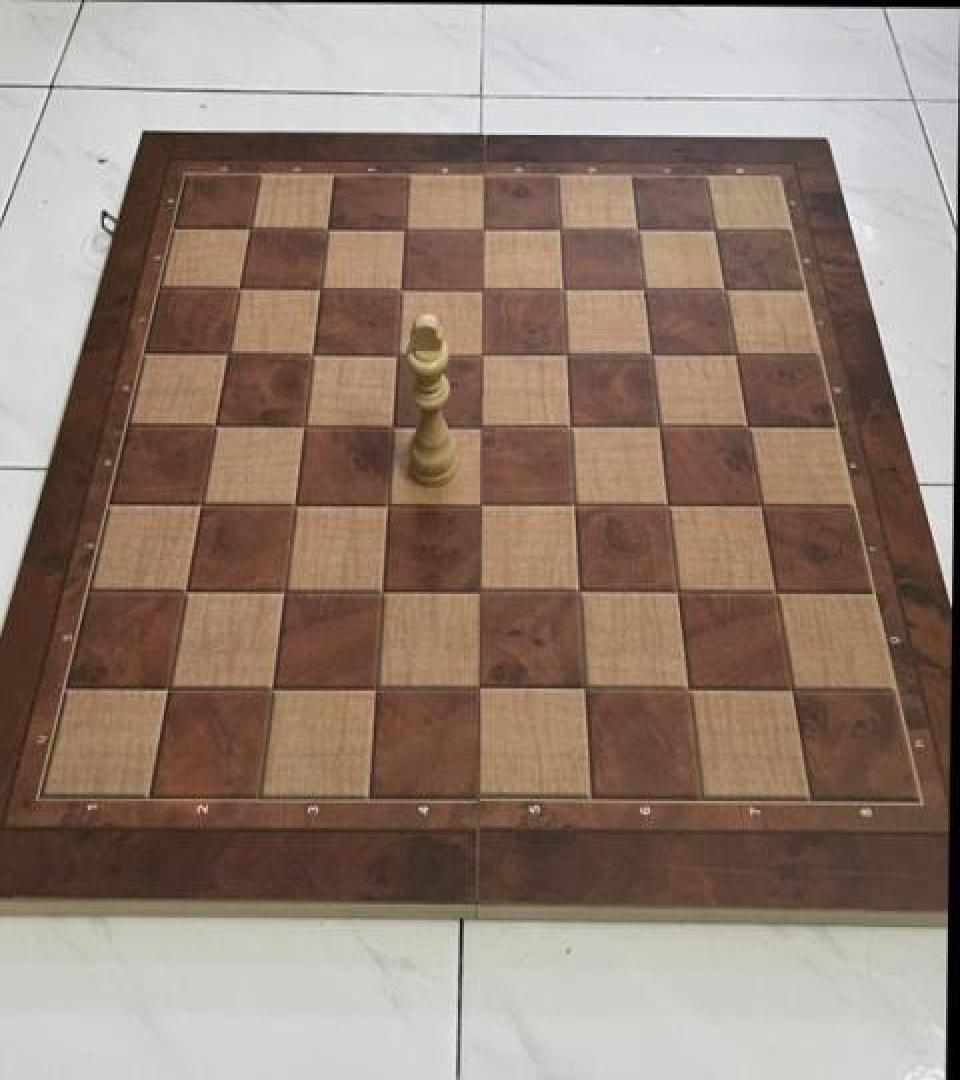xcorner: (696, 210, 732, 251), (619, 209, 655, 250), (542, 209, 578, 250), (465, 208, 501, 249), (717, 335, 753, 376), (633, 334, 669, 375), (729, 406, 765, 447), (640, 406, 676, 447), (184, 480, 220, 521), (463, 570, 499, 611), (364, 569, 400, 610), (266, 568, 302, 609), (168, 568, 204, 609), (772, 669, 808, 710), (669, 669, 705, 710), (565, 668, 601, 709), (462, 667, 498, 708), (388, 207, 424, 247), (310, 206, 346, 246), (233, 206, 269, 246), (706, 270, 742, 310), (626, 269, 662, 309), (545, 269, 581, 309), (465, 268, 501, 308), (384, 267, 420, 307), (303, 266, 339, 306), (222, 266, 258, 306), (548, 333, 584, 373), (464, 333, 500, 373), (380, 332, 416, 372), (295, 331, 331, 371), (211, 331, 247, 371), (552, 405, 588, 445), (464, 404, 500, 444), (375, 404, 411, 444), (286, 403, 322, 443), (198, 402, 234, 442), (742, 485, 778, 525), (649, 485, 685, 525), (556, 484, 592, 524), (463, 483, 499, 523), (370, 483, 406, 523), (277, 482, 313, 522), (756, 573, 792, 613), (658, 572, 694, 612), (561, 572, 597, 612), (358, 666, 394, 706), (254, 666, 290, 706), (151, 665, 187, 705)
